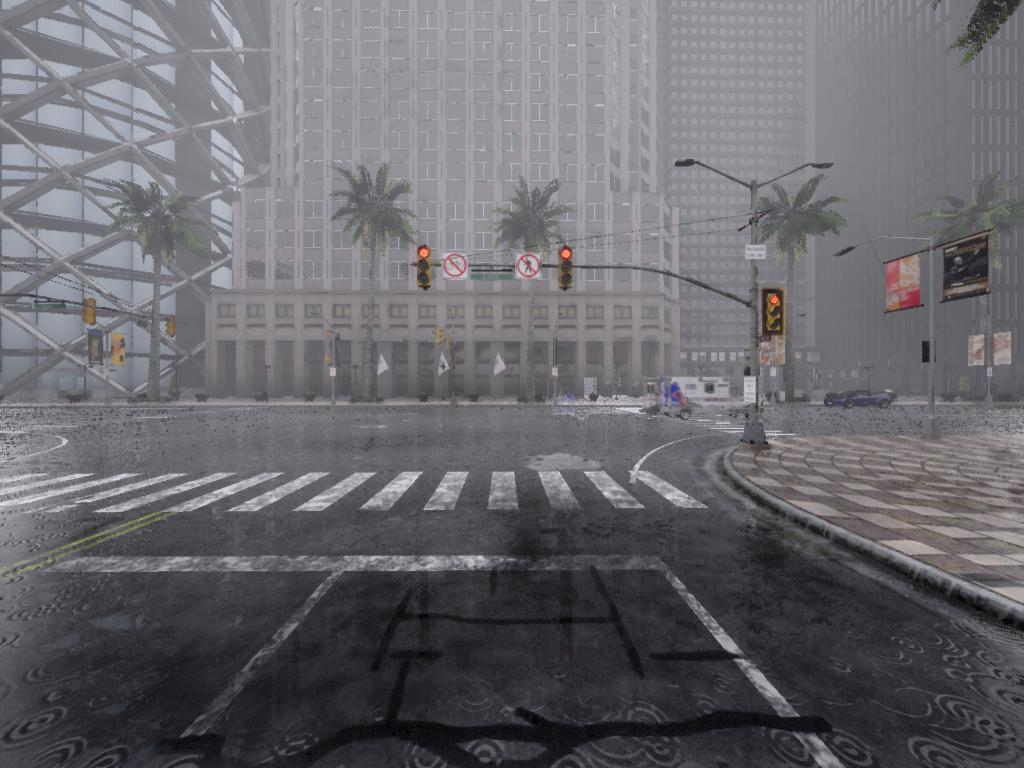traffic_light: (763, 289, 786, 333), (414, 247, 433, 290), (557, 250, 574, 292), (86, 300, 100, 328), (419, 247, 433, 271), (167, 314, 177, 343), (922, 343, 934, 364), (449, 334, 456, 357), (439, 326, 445, 349)
